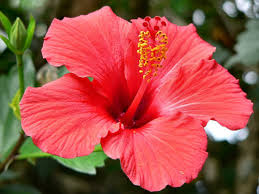hybiscus: (19, 5, 254, 191)
